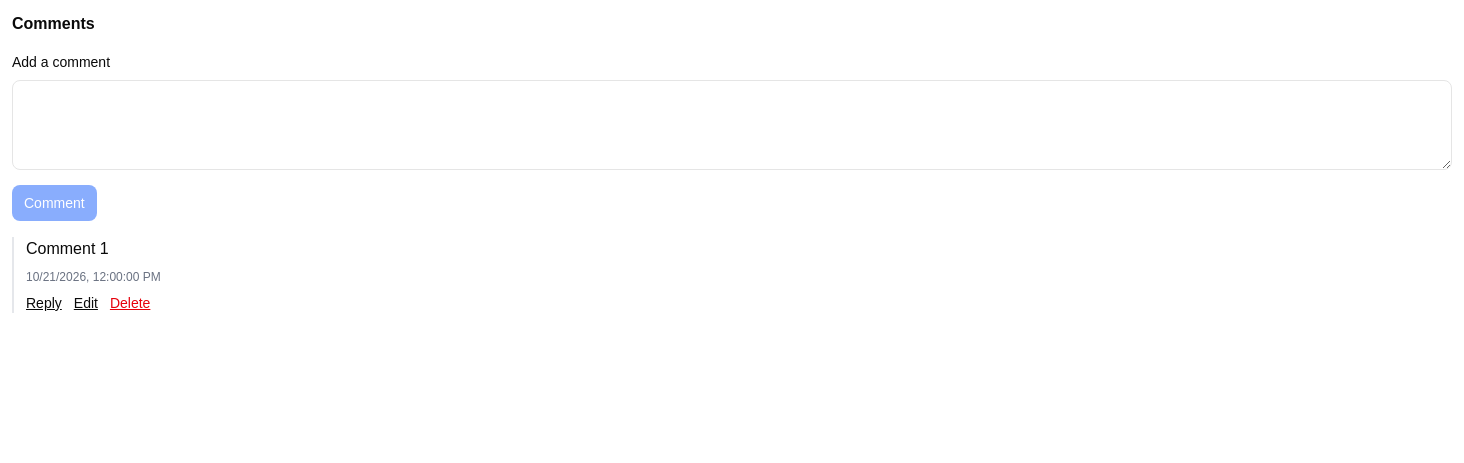
Test: Comments management › edits a comment owned by the authenticated user
Expected: the text "Add a comment" is shown, [12,54,110,70]
// Open the editor and replace the existing content.
Click the button "Edit": (86, 303) [74,293,98,313]
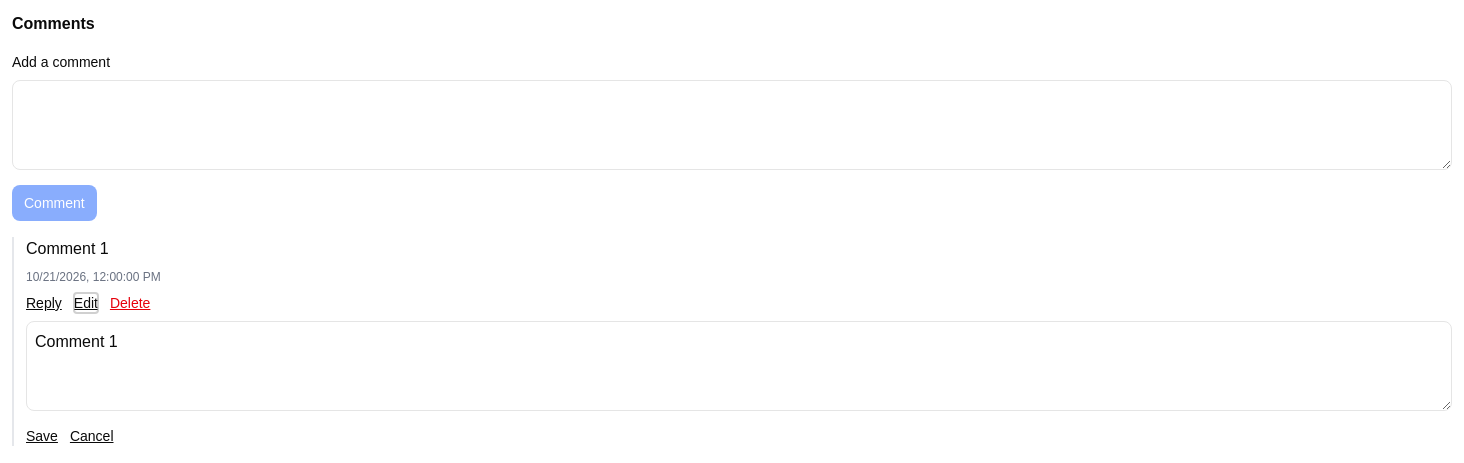
Replace the text in the text box named "Edit comment content" with "Updated comment": (739, 366) [26,321,1452,411]
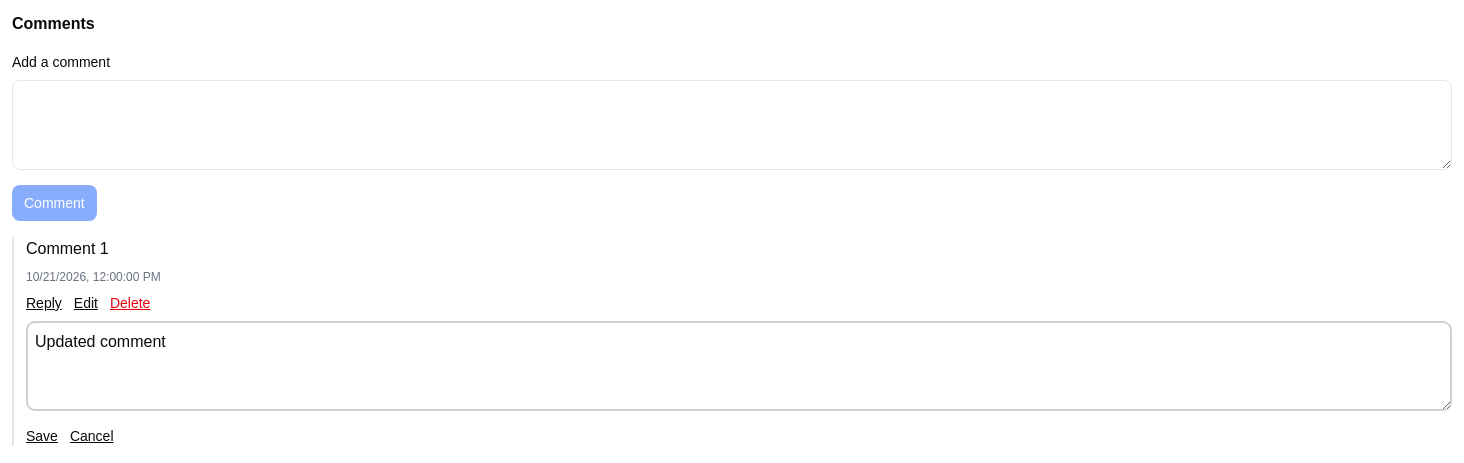
Click the button "Save": (42, 436) [26,426,58,446]
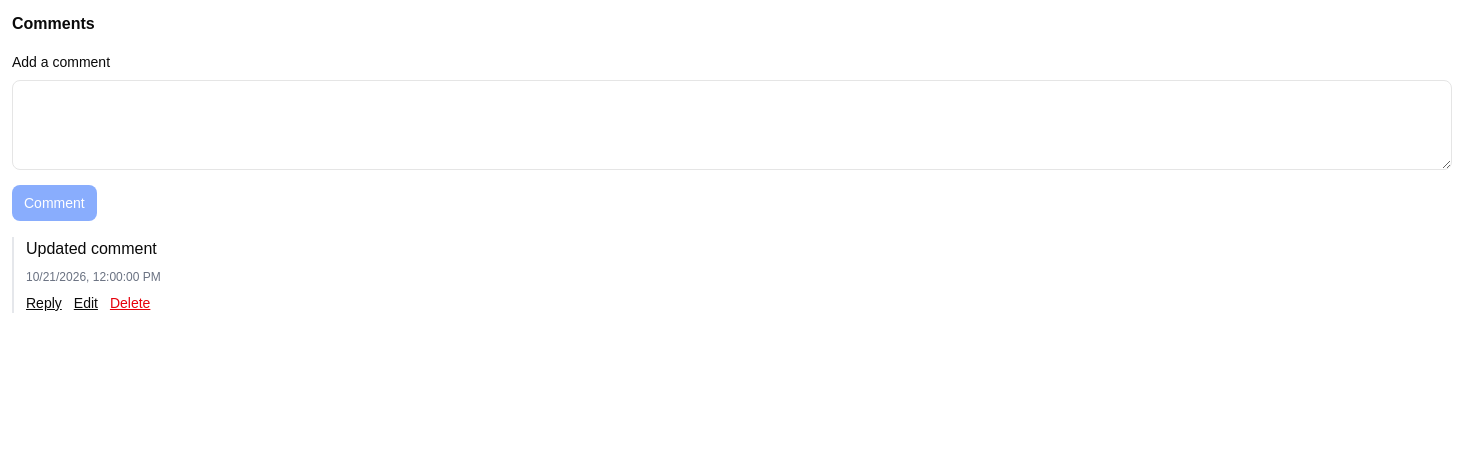
Expected: the text "Updated comment" is shown, [26,240,157,257]
